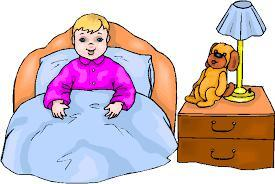dog: (185, 38, 239, 108)
person: (42, 14, 134, 120)
